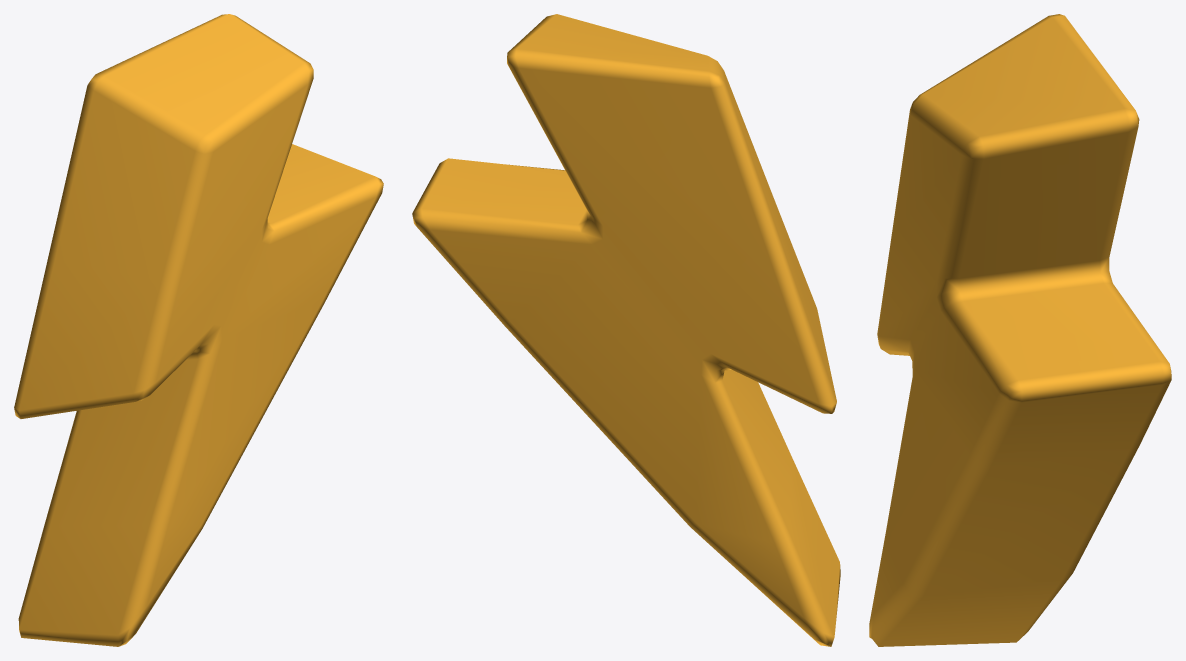
3 views of the same model, side by side, from view 1: azimuth 30°, elevation 25°; view 2: azimuth 150°, elevation 25°; view 3: azimuth 270°, elevation 25° (orthographic). The views are drawn at different scales.
Parts seen in each view (by area): view 1: model_1.083; view 2: model_1.083; view 3: model_1.083.
Part boxes in pixels (box(x1,y1,x2,y2)): model_1.083: box(14, 14, 383, 646); model_1.083: box(412, 14, 840, 646); model_1.083: box(869, 14, 1171, 646).
Bounding box in the file's own units: 3.21 × 4.43 × 1.76.
